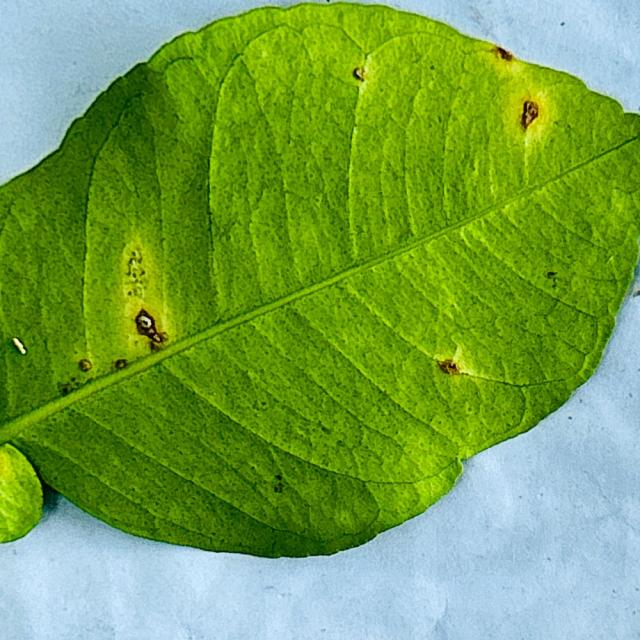Anthracnose: (482, 44, 543, 146), (59, 348, 140, 398), (120, 289, 172, 364), (124, 250, 148, 302), (57, 376, 82, 396)
Lemon: (0, 1, 639, 562)
